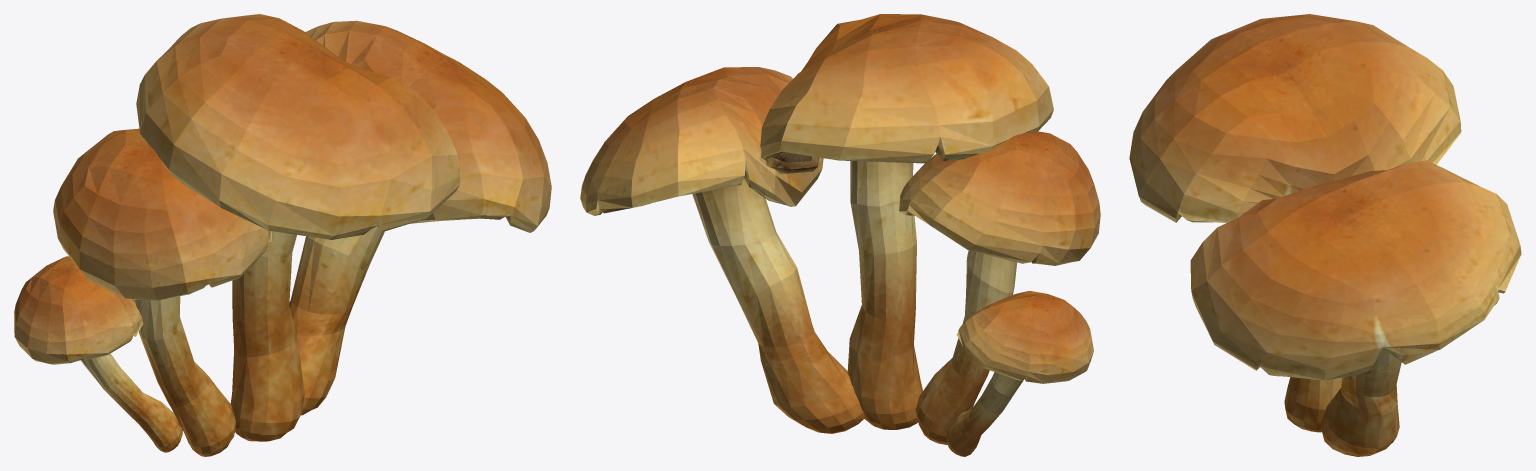
File: P_Chashugu_03.obj
The picture shows the model from 3 angles, left to right: view 1: azimuth 30°, elevation 25°; view 2: azimuth 150°, elevation 25°; view 3: azimuth 270°, elevation 25°; orthographic projection. The views are drawn at different scales.
Bounding box in the file's own units: 0.5722 × 0.4497 × 0.4034.
Materials: 1 (1 with a texture image).
